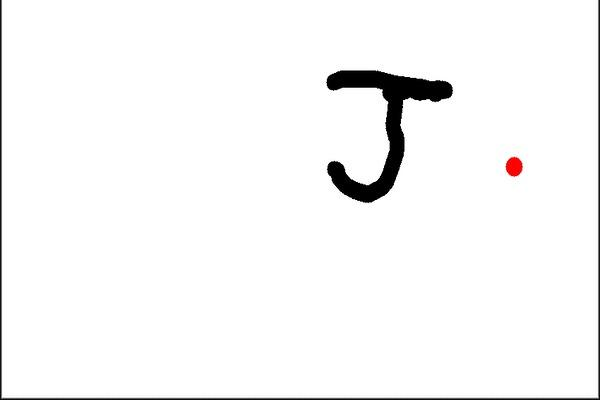J: (315, 64, 459, 208)
